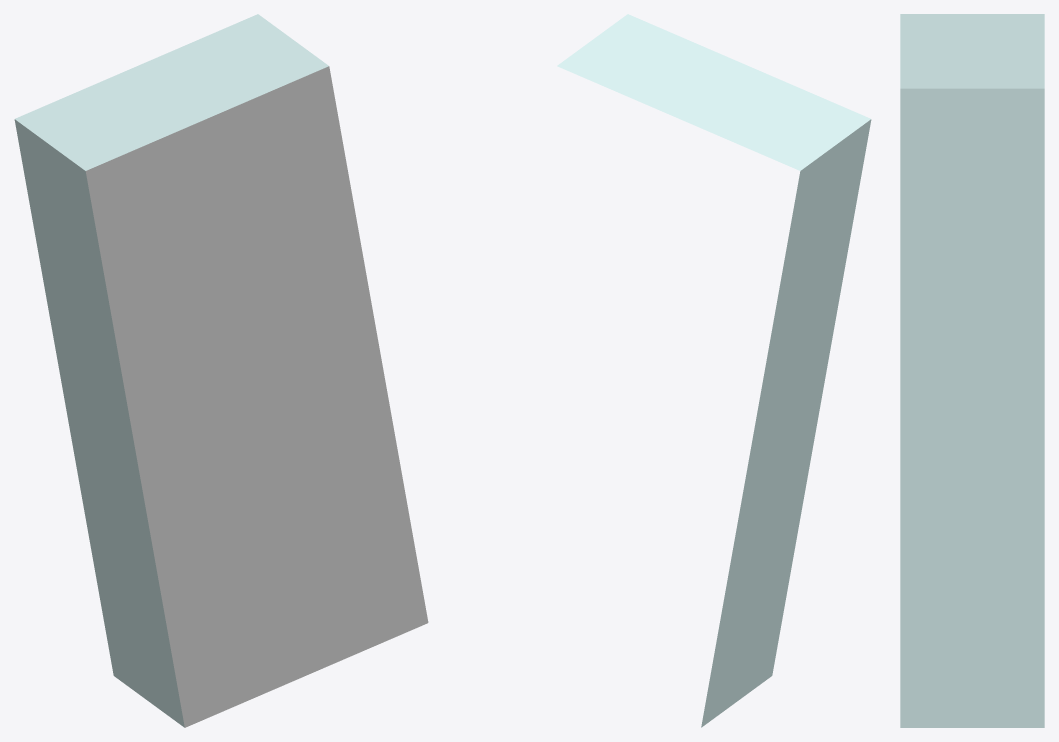
3 views of the same model, side by side, from view 1: azimuth 30°, elevation 25°; view 2: azimuth 150°, elevation 25°; view 3: azimuth 270°, elevation 25° (orthographic).
Parts seen in each view (by area): view 1: 0_0_1_2_2_3; view 2: 0_0_1_2_2_3; view 3: 0_0_1_2_2_3.
Boxes of the visible parts, x1,y1,x2,y2 form: 0_0_1_2_2_3: (14, 14, 428, 727); 0_0_1_2_2_3: (557, 14, 871, 727); 0_0_1_2_2_3: (900, 14, 1044, 727).
Size of the model in its own units: 8.34 by 14.57 by 3.
